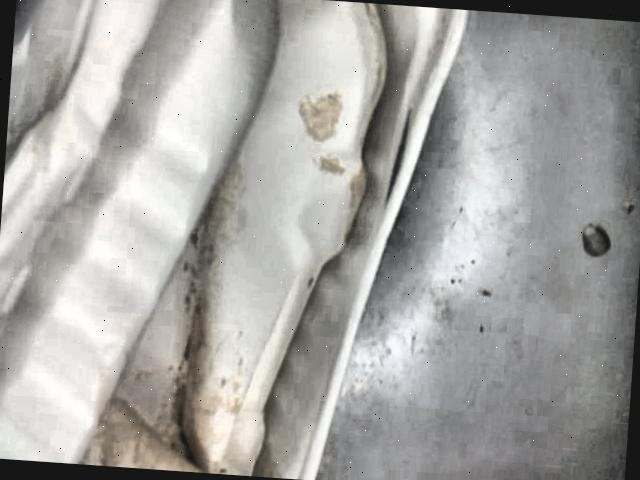Paper: (0, 0, 466, 479)
